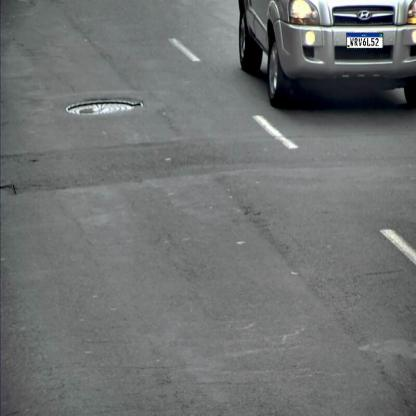PlacaM: (346, 32, 384, 48)
